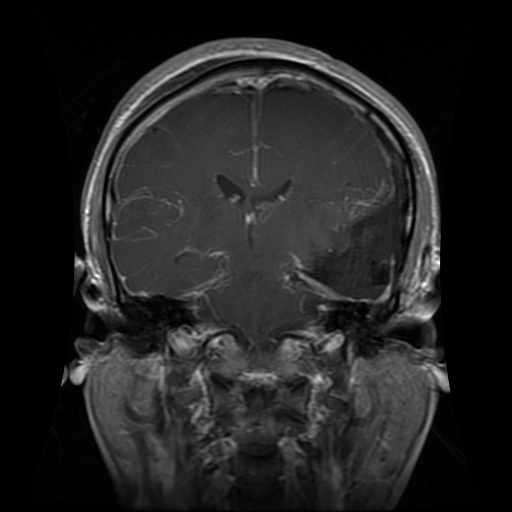glioma: (301, 183, 405, 300)
